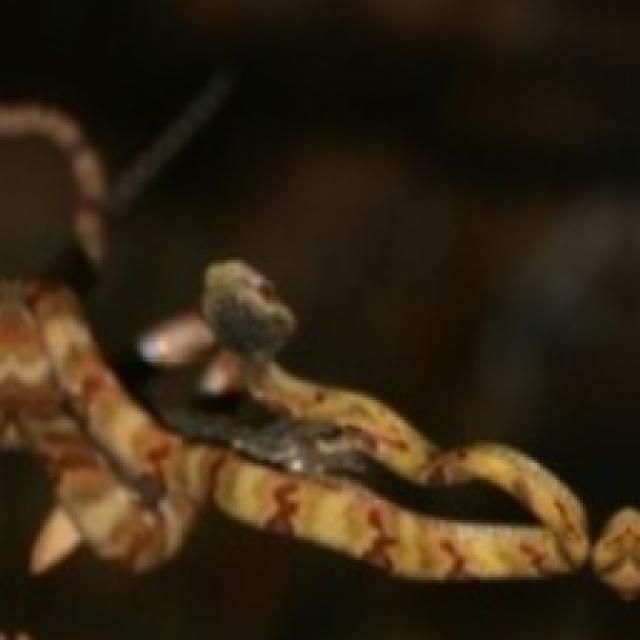dog-toothed cat snake: (0, 103, 637, 597)
